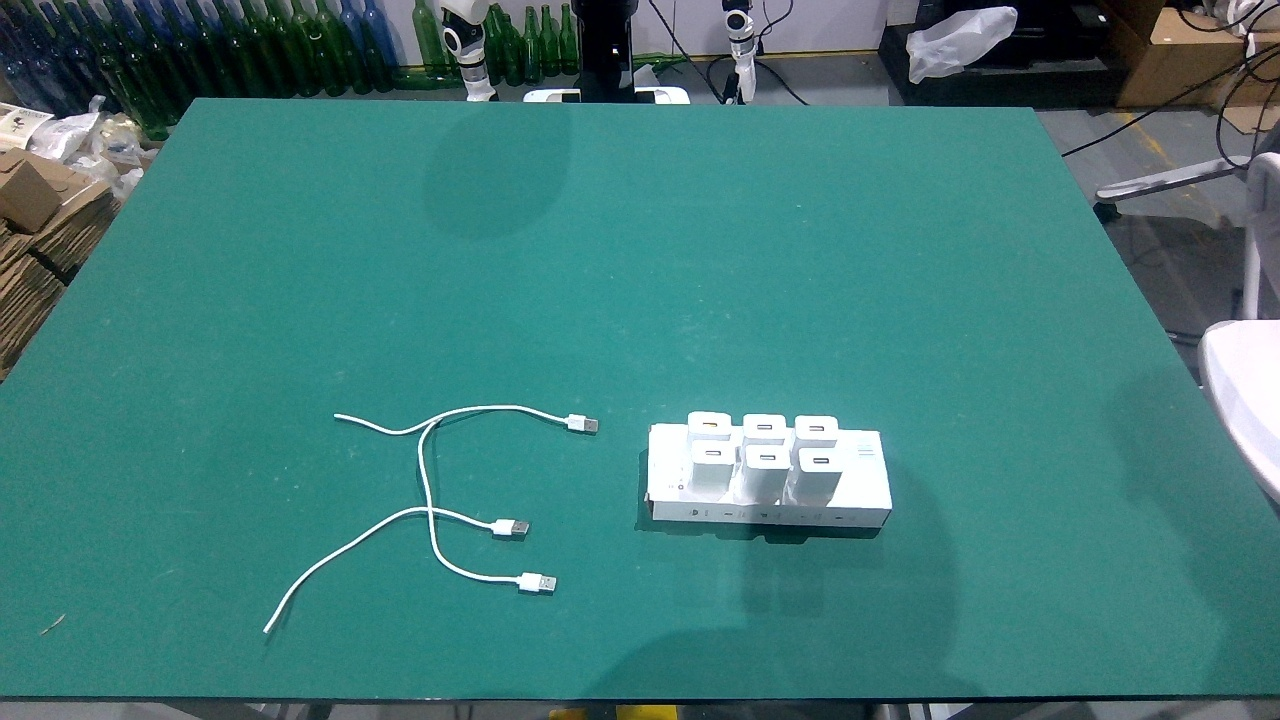usb_a_plug: (551, 411, 602, 435), (507, 570, 557, 594), (481, 519, 530, 536)
